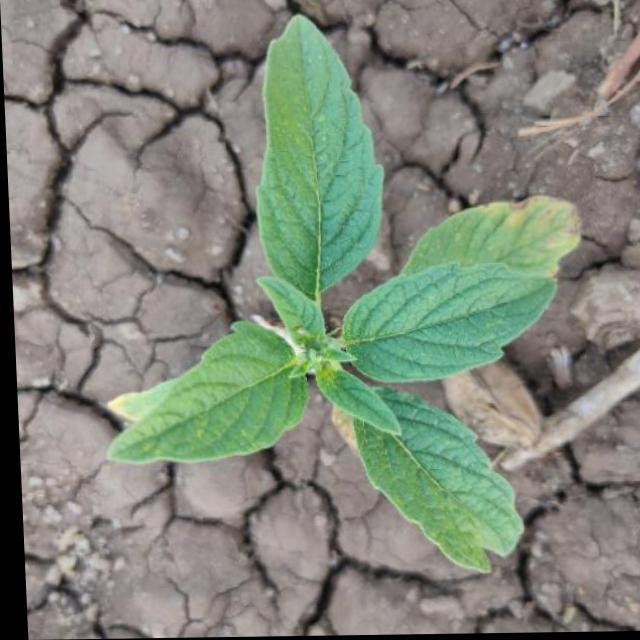crop: (80, 0, 588, 620)
